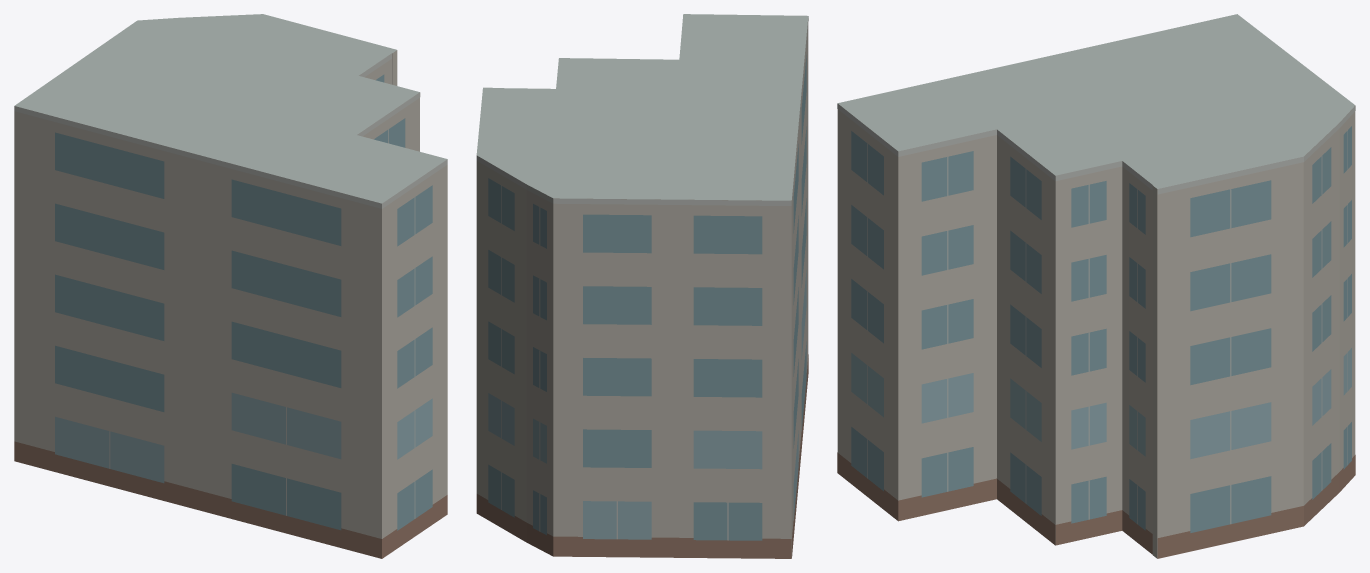
File: survey-upis-32837304.glb
3 views of the same model, side by side, from view 1: azimuth 30°, elevation 25°; view 2: azimuth 150°, elevation 25°; view 3: azimuth 270°, elevation 25° (orthographic). The views are drawn at different scales.
Parts seen in each view (by area): view 1: survey-upis-32837304.tmp; view 2: survey-upis-32837304.tmp; view 3: survey-upis-32837304.tmp.
Part boxes in pixels (x1,y1,x2,y2): survey-upis-32837304.tmp: (14, 14, 447, 558); survey-upis-32837304.tmp: (476, 14, 808, 558); survey-upis-32837304.tmp: (837, 14, 1355, 558).
Size of the model in its own units: 16.48 by 16.22 by 20.6.
